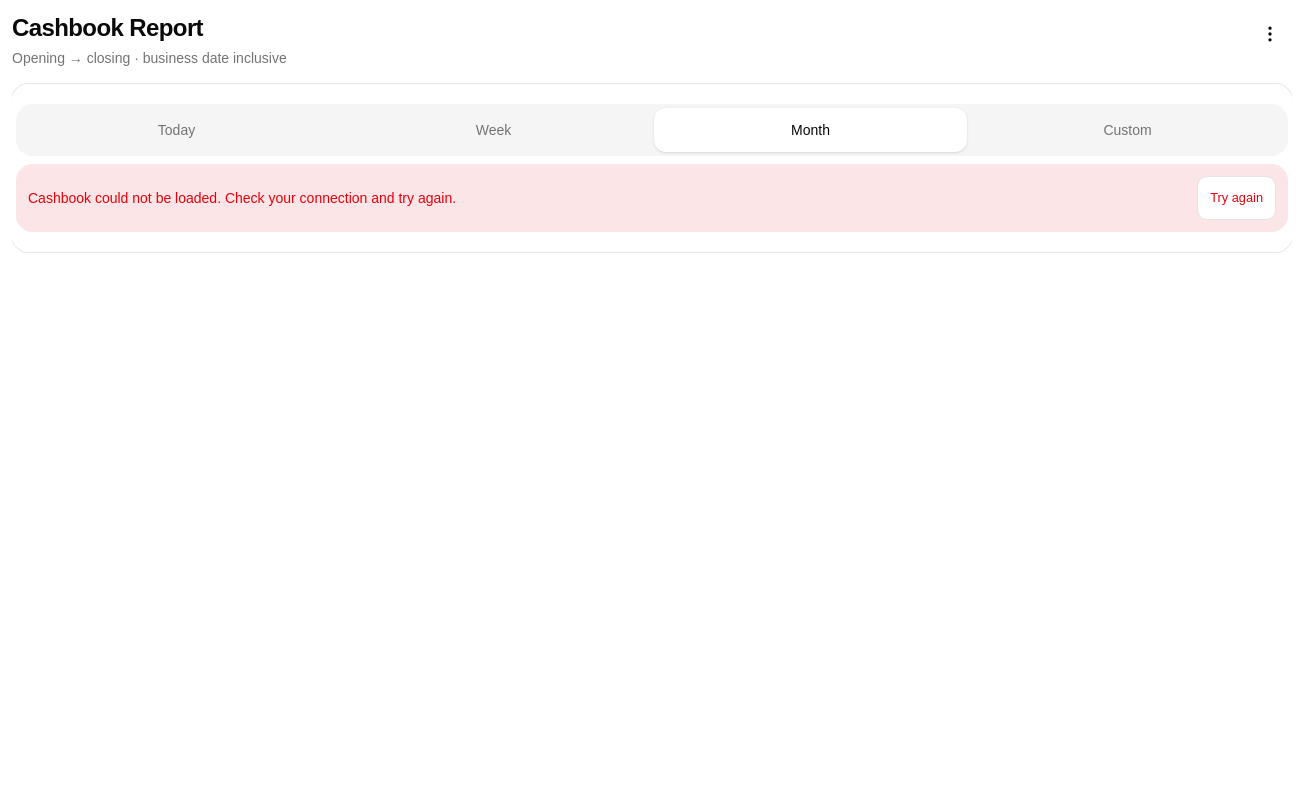
Test: ReportsPage cashbook redesign › shows a recoverable error instead of an empty report
Expected: the message shows "Cashbook could not be loaded", [28,190,456,206]
Click the button "Try again". click: point(1237, 198)
box: [1197,176,1276,220]
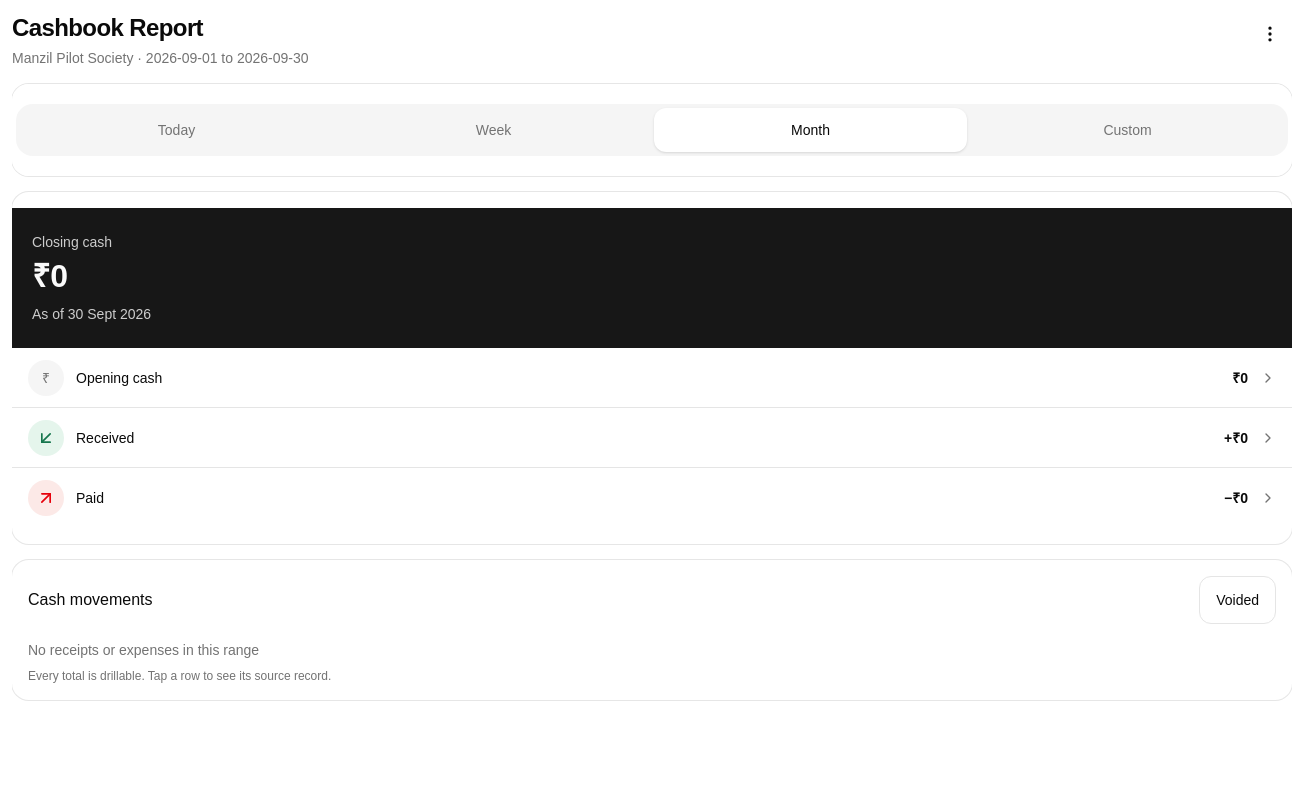
Expected: the text "Closing cash" is shown, [32,234,112,250]
